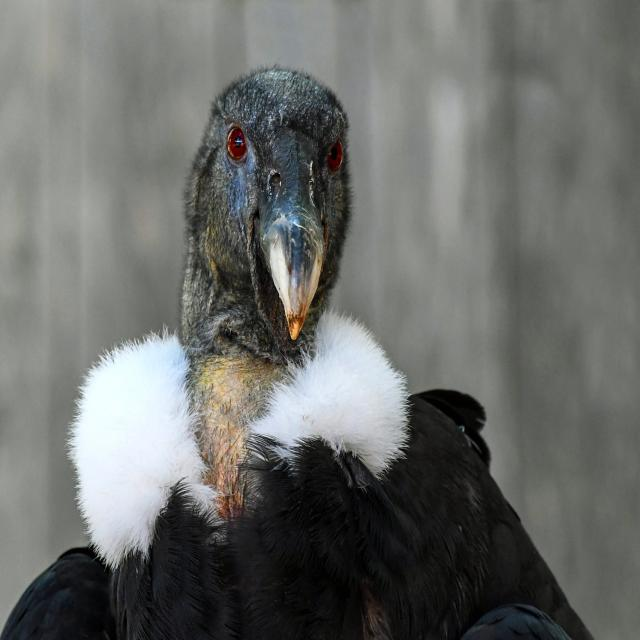Carnivorous: (0, 66, 596, 640)
